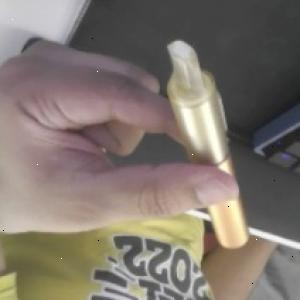Golden-E-Ciggirate: (164, 40, 252, 248)
